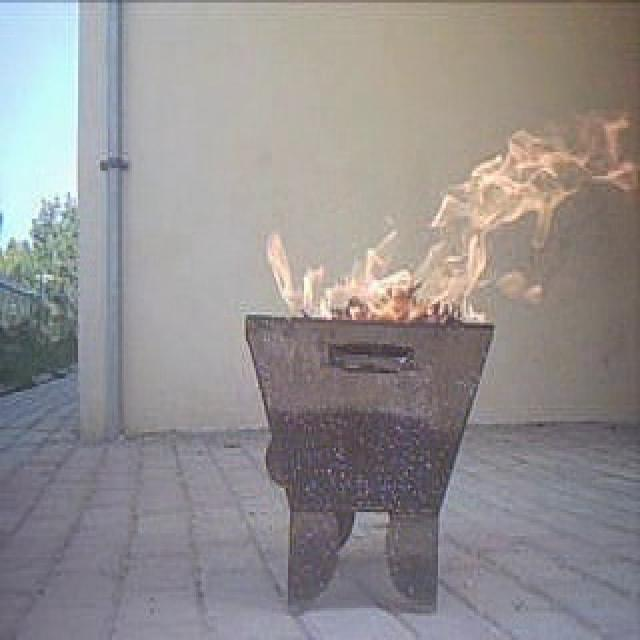fire: (301, 156, 578, 312)
